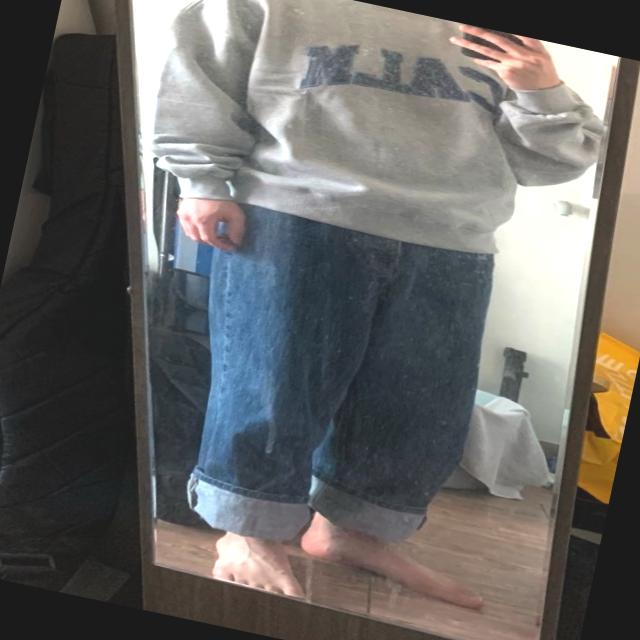denimpants: (158, 196, 510, 580)
mtm: (136, 0, 627, 280)
